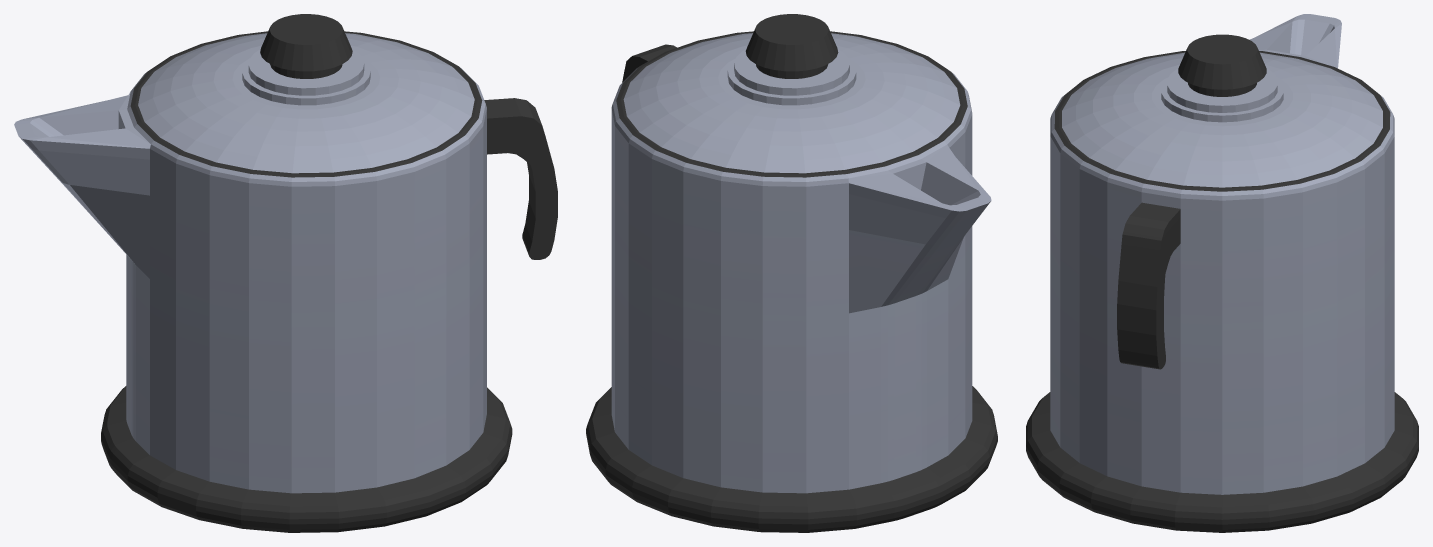
Rendered from Coffe con UV.fbx.
3 renders of one model, left to right at view 1: azimuth 30°, elevation 25°; view 2: azimuth 150°, elevation 25°; view 3: azimuth 270°, elevation 25°, orthographic. The views are drawn at different scales.
Parts seen in each view (by area): view 1: Cylinder.003; view 2: Cylinder.003; view 3: Cylinder.003.
Boxes of the visible parts, x1=… form: Cylinder.003: x1=14, y1=14, x2=557, y2=532; Cylinder.003: x1=586, y1=14, x2=997, y2=532; Cylinder.003: x1=1026, y1=14, x2=1418, y2=532.
Size of the model in its own units: 100 by 89.04 by 78.44.
